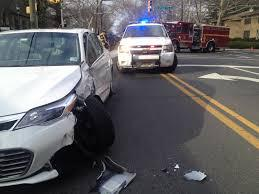Front-Windscreen-Damage: (10, 128, 78, 185)
